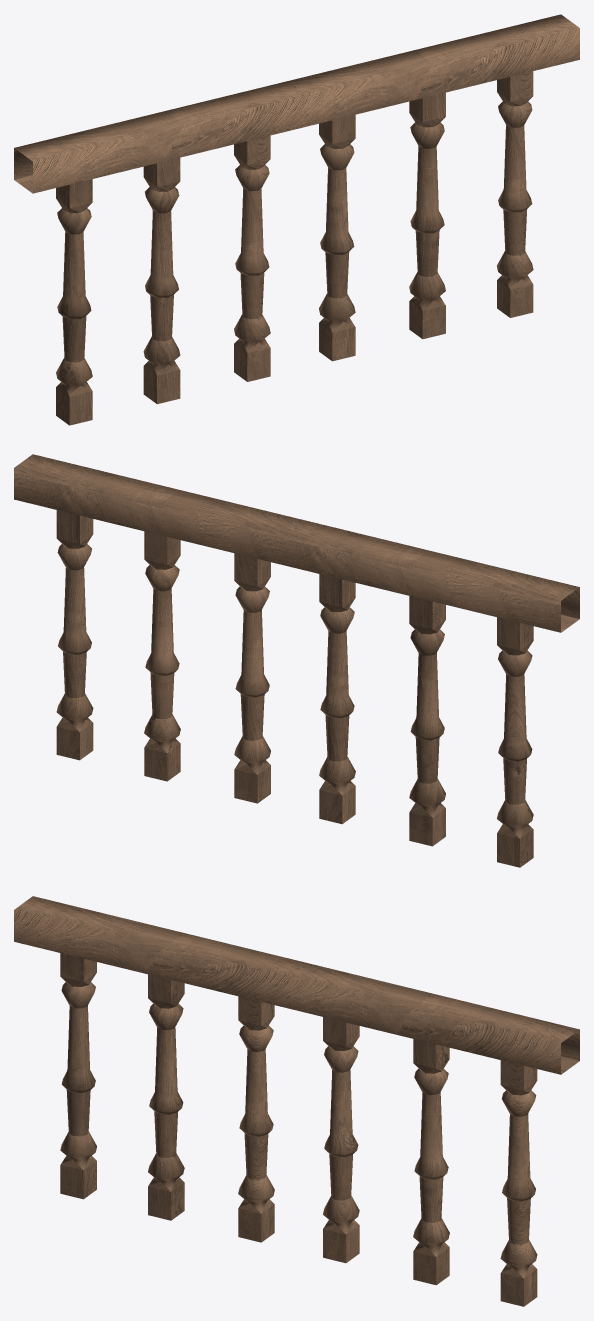
File: RailingInt1A.fbx
3 views of the same model, one above another, from view 1: azimuth 30°, elevation 25°; view 2: azimuth 150°, elevation 25°; view 3: azimuth 330°, elevation 25° (orthographic).
Parts seen in each view (by area): view 1: RailingInt1A; view 2: RailingInt1A; view 3: RailingInt1A.
Boxes of the visible parts, box(x1,y1,x2,y2) form: RailingInt1A: box(14, 14, 579, 425); RailingInt1A: box(14, 454, 579, 867); RailingInt1A: box(14, 896, 579, 1306).
Size of the model in its own units: 200 by 96.95 by 13.59.
